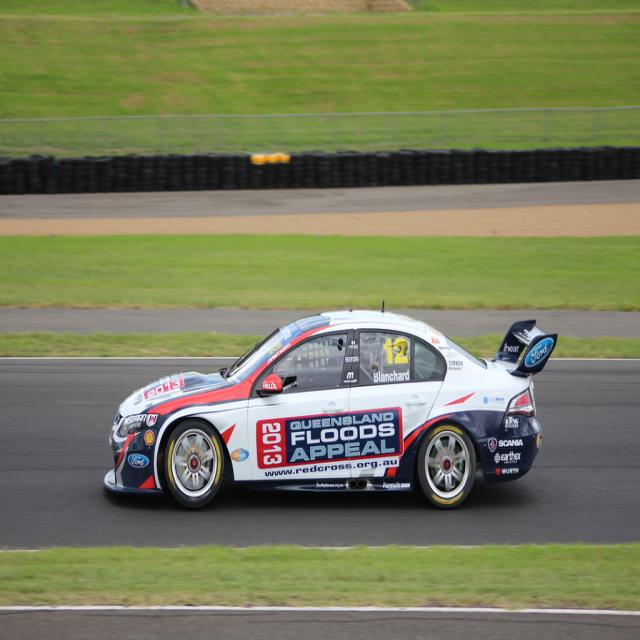car: (104, 254, 557, 508)
